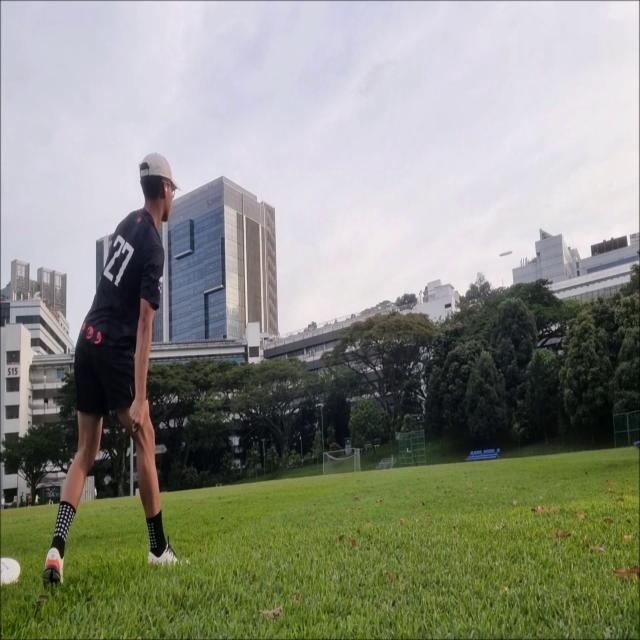disc: (498, 249, 514, 258)
